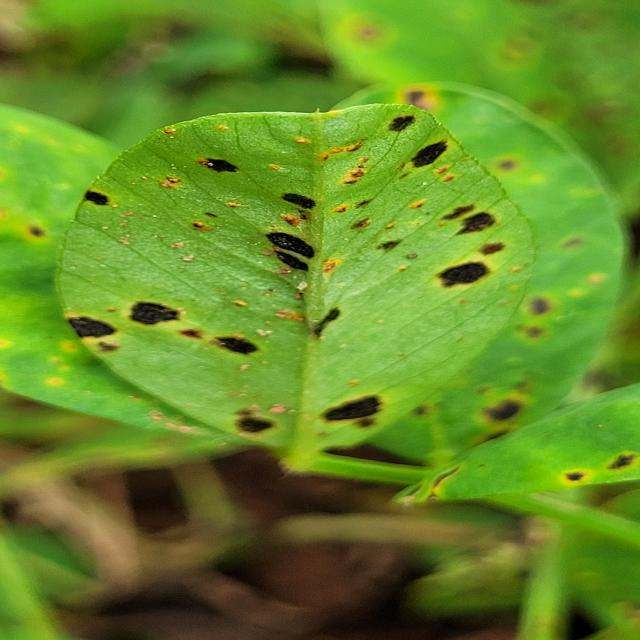Ground nut_tikka leaf spot: (57, 107, 538, 460)
